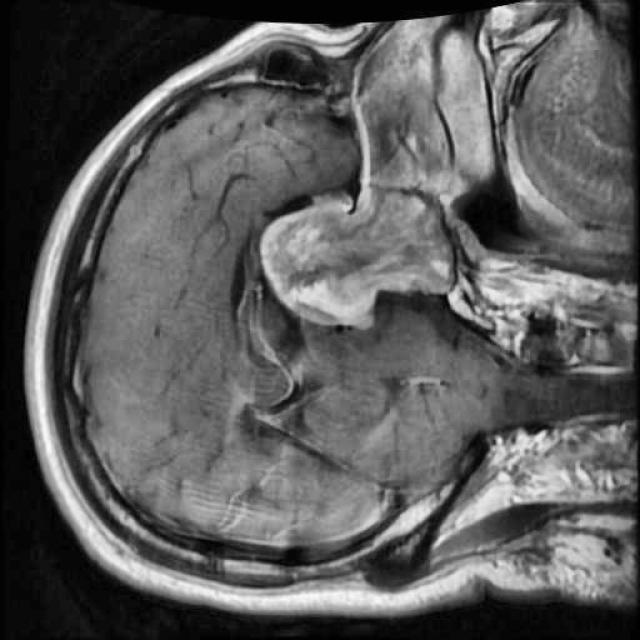Tumor: (251, 168, 474, 349)
